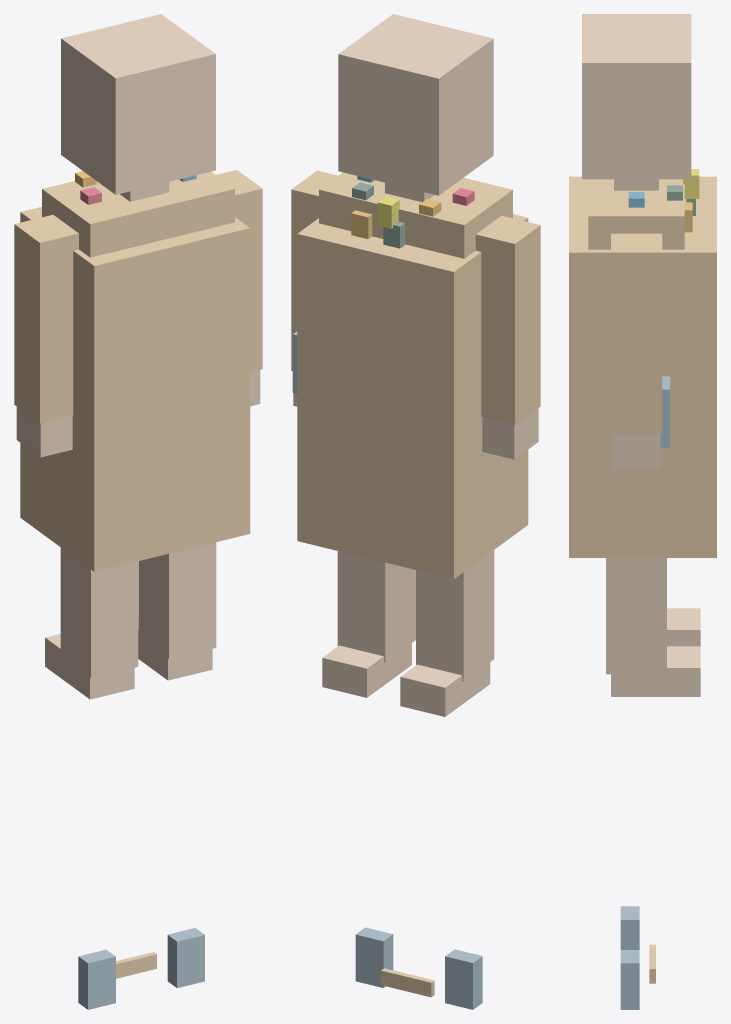
Rendered from iris.glb.
3 views of the same model, side by side, from view 1: azimuth 30°, elevation 25°; view 2: azimuth 150°, elevation 25°; view 3: azimuth 270°, elevation 25° (orthographic).
Visible parts, largest first — view 1: outfit_tunic_0, head, arm_L_upper, torso, leg_L_shin, leg_R_shin, arm_R_upper, leg_L_foot, outfit_sandals_0, outfit_sandals_1, arm_L_hand, leg_R_foot (+2 smaller); view 2: outfit_tunic_0, head, arm_L_upper, leg_L_shin, torso, leg_R_shin, leg_L_foot, leg_R_foot, prop, arm_R_upper, outfit_sandals_0, arm_L_hand (+2 smaller); view 3: outfit_tunic_0, head, arm_R_upper, leg_R_shin, torso, leg_R_foot, arm_R_hand, leg_L_foot, prop, outfit_sandals_1, outfit_sandals_0, outfit_bag_0 (+1 smaller).
Boxes of the visible parts, box(x1,y1,x2,y2) form: outfit_tunic_0: box(20, 207, 250, 571); head: box(61, 14, 215, 194); arm_L_upper: box(14, 214, 78, 423); torso: box(42, 171, 234, 257); leg_L_shin: box(60, 547, 138, 678); leg_R_shin: box(138, 542, 216, 659); arm_R_upper: box(216, 170, 262, 371); leg_L_foot: box(45, 634, 134, 699); outfit_sandals_0: box(78, 949, 115, 1009); outfit_sandals_1: box(167, 928, 204, 988); arm_L_hand: box(16, 407, 72, 457); leg_R_foot: box(138, 615, 212, 680); outfit_tunic_0: box(297, 214, 528, 579); head: box(338, 14, 493, 195); arm_L_upper: box(475, 215, 540, 425); leg_L_shin: box(416, 550, 494, 681); torso: box(319, 172, 512, 258); leg_R_shin: box(337, 551, 415, 662); leg_L_foot: box(400, 662, 490, 716); leg_R_foot: box(322, 643, 411, 697); prop: box(351, 176, 474, 248); arm_R_upper: box(291, 170, 337, 370); outfit_sandals_0: box(445, 949, 482, 1009); arm_L_hand: box(482, 408, 538, 459); outfit_tunic_0: box(569, 176, 716, 557); head: box(582, 14, 691, 179); arm_R_upper: box(611, 233, 662, 433); leg_R_shin: box(606, 558, 666, 674); torso: box(588, 179, 684, 249); leg_R_foot: box(611, 646, 700, 696); arm_R_hand: box(612, 433, 660, 467); leg_L_foot: box(667, 608, 700, 646); prop: box(628, 169, 699, 232); outfit_sandals_1: box(620, 950, 639, 1009); outfit_sandals_0: box(620, 906, 639, 949); outfit_bag_0: box(660, 376, 670, 447).
Bounding box in the file's own units: 0.8 × 3.24 × 0.46.
